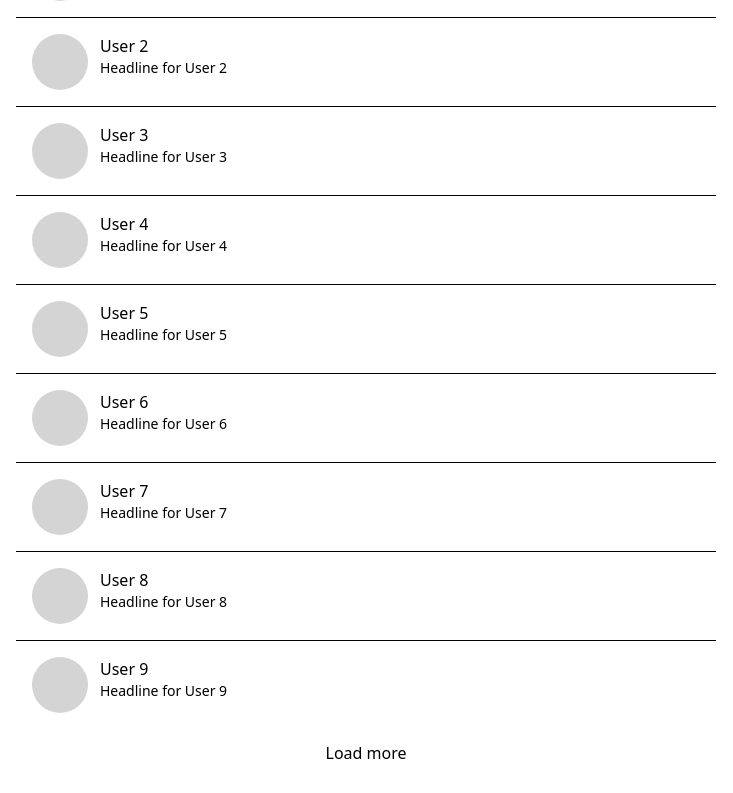
PeopleSearch › handles load more functionality
(page scrolled)
Step 1. Click the button "Load more" → (366, 753), box 16,729 -> 716,777
(page scrolled)
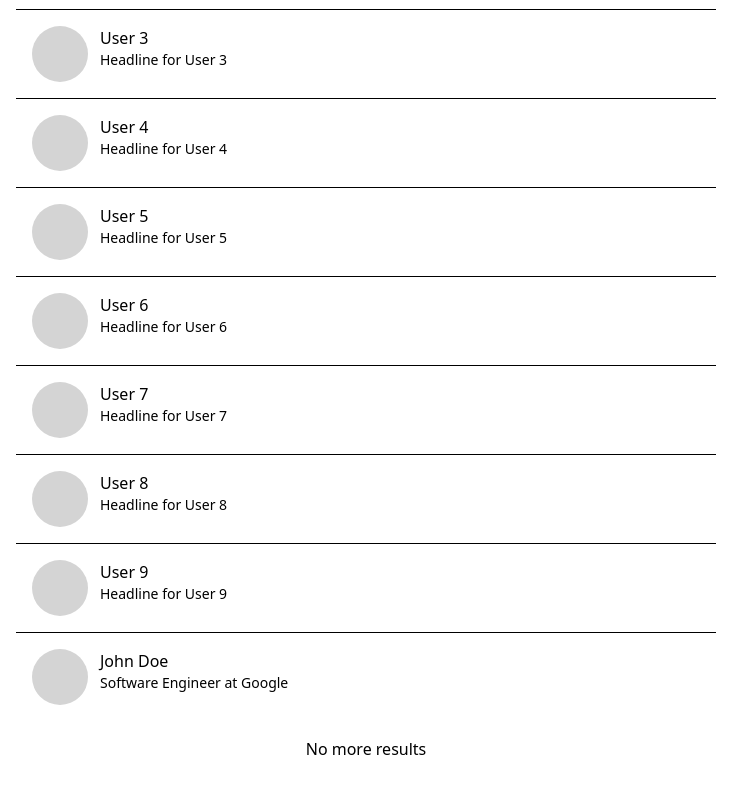
Check: the text "No more results" is shown, box 306,738 -> 426,760
Check: the button "Load more" is gone
